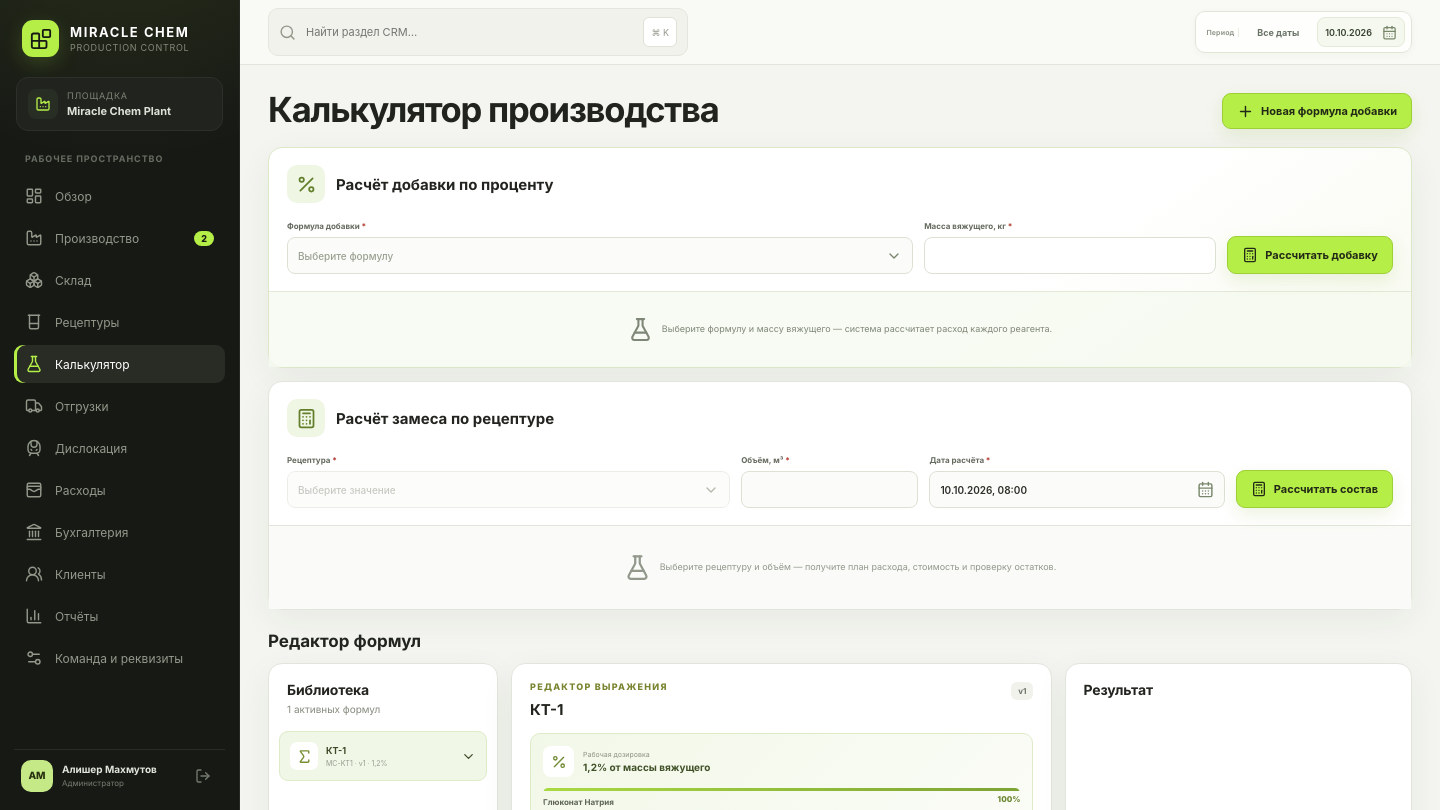
Test: Miracle Chem app shell › shows additive formula percentages and opens an empty recipe form
The image size is (1440, 810).
Check: the heading "Калькулятор производства" is shown, box [268, 93, 719, 129]
Check: the heading "Расчёт добавки по проценту" is shown, box [336, 175, 554, 194]
Click the button "Новая формула добавки" at [1317, 111], box [1222, 93, 1412, 129]
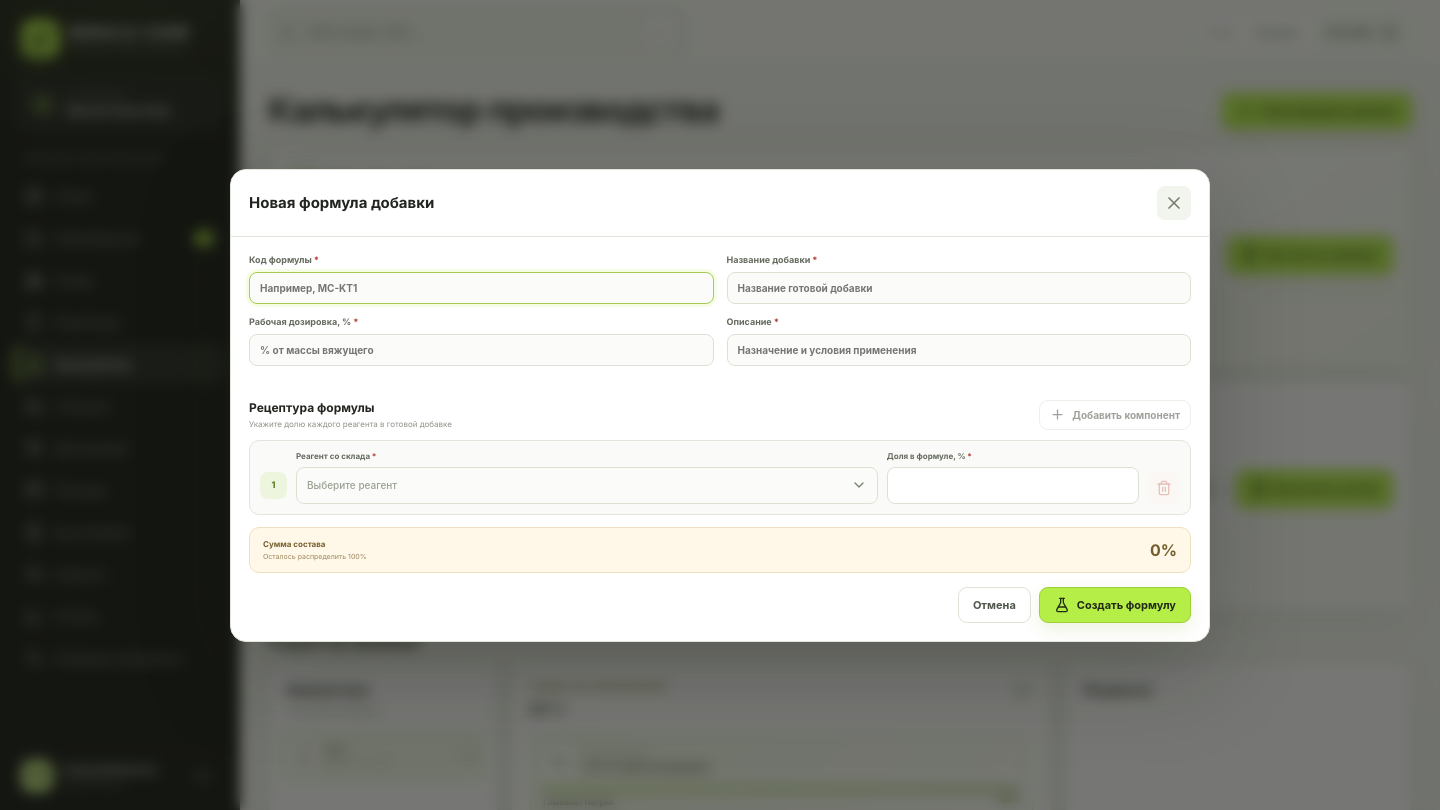
Check: the heading "Рецептура формулы" is shown, box [249, 400, 374, 415]
Check: the text "Сумма состава" is shown, box [263, 538, 326, 548]
Check: the text "0%" is shown, box [1150, 540, 1177, 560]
